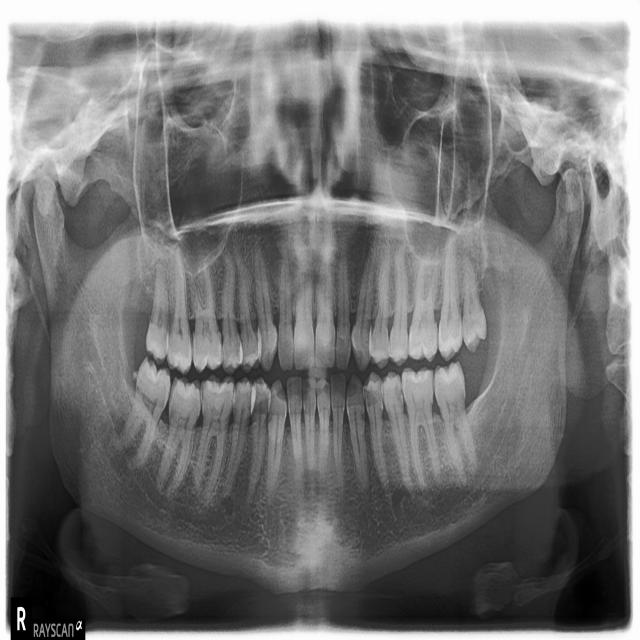mandibula: (33, 167, 584, 593)
